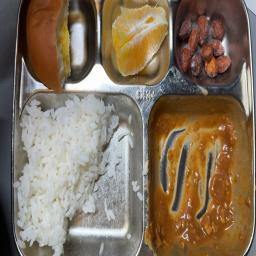0_beef: (150, 100, 247, 252)
100_orange: (107, 2, 168, 79)
50_bread: (25, 0, 91, 83)
50_nuts: (176, 9, 237, 83)
50_rice: (21, 95, 140, 250)
